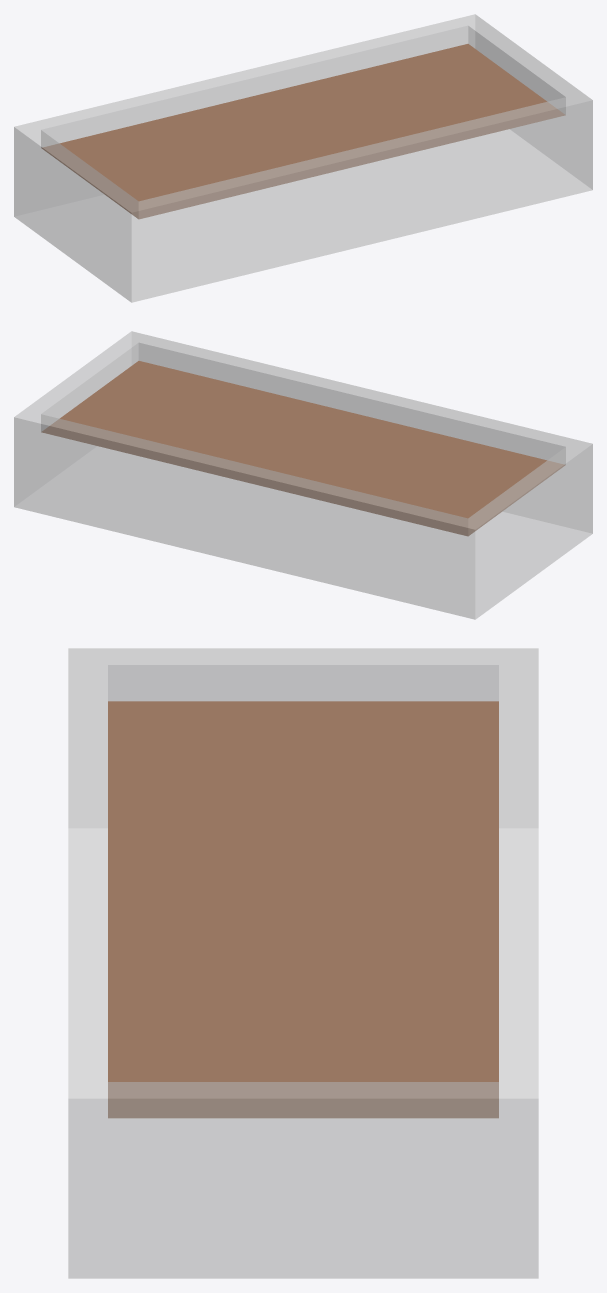
The model's file is gewhaus2.glb.
The picture shows the model from 3 angles, top to bottom: view 1: azimuth 30°, elevation 25°; view 2: azimuth 150°, elevation 25°; view 3: azimuth 270°, elevation 25°; orthographic projection. The views are drawn at different scales.
Parts seen in each view (by area): view 1: gewhaus2; view 2: gewhaus2; view 3: gewhaus2.
Boxes of the visible parts, box(x1,y1,x2,y2) form: gewhaus2: box(14, 14, 592, 302); gewhaus2: box(14, 331, 592, 619); gewhaus2: box(68, 648, 538, 1278).
Size of the model in its own units: 21.65 by 4.03 by 9.55.
